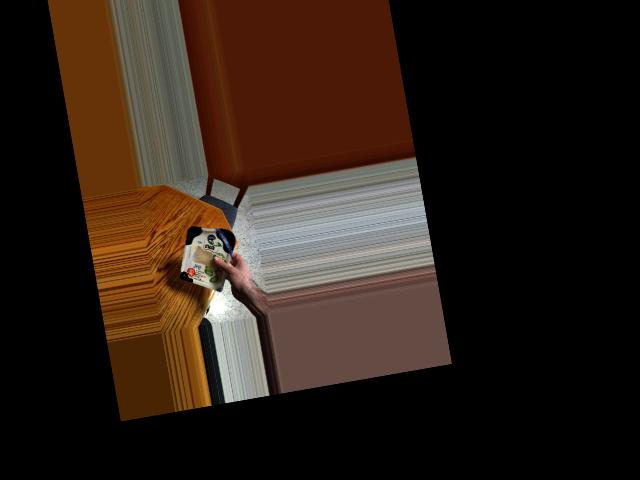cheese: (173, 217, 239, 286)
